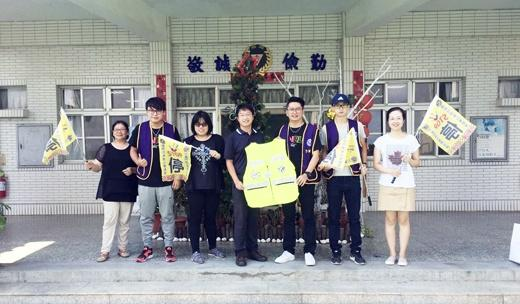NoHelmet: (190, 109, 213, 135), (235, 102, 256, 126), (285, 96, 306, 120)
